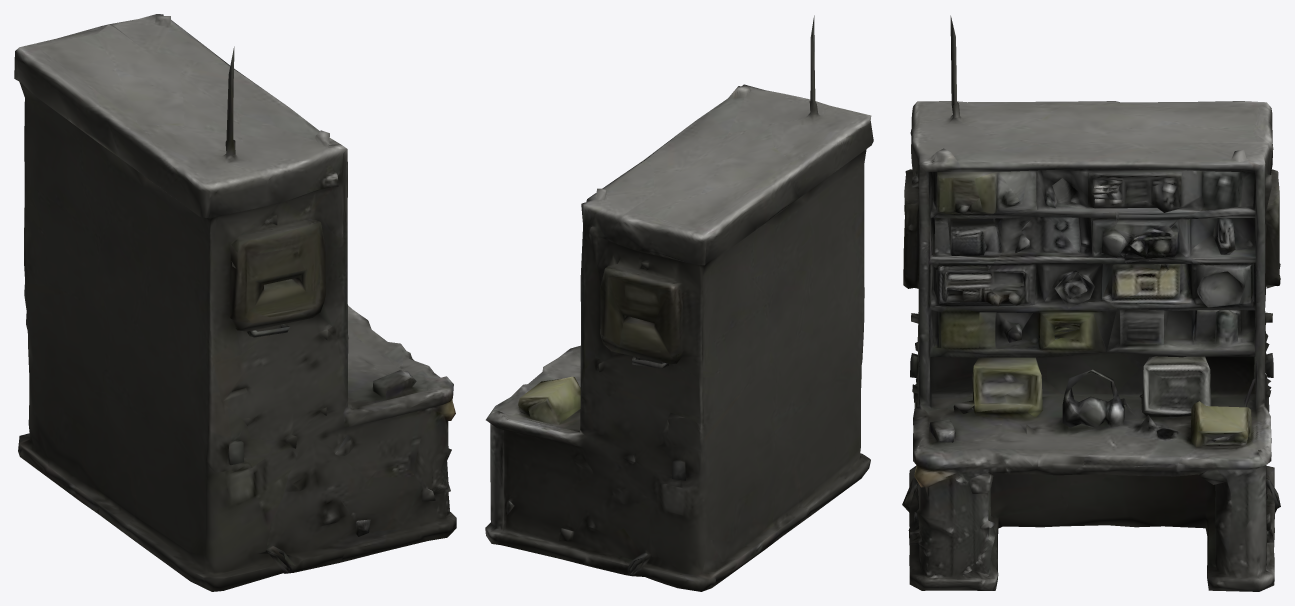
File: xd_radio.glb
3 renders of one model, left to right at view 1: azimuth 30°, elevation 25°; view 2: azimuth 150°, elevation 25°; view 3: azimuth 270°, elevation 25°, orthographic. The views are drawn at different scales.
Visible parts, largest first — view 1: tripo_node_1d00af76-71aa-4f02-891b-e4d7d4036e91; view 2: tripo_node_1d00af76-71aa-4f02-891b-e4d7d4036e91; view 3: tripo_node_1d00af76-71aa-4f02-891b-e4d7d4036e91.
Boxes of the visible parts, x1,y1,x2,y2 form: tripo_node_1d00af76-71aa-4f02-891b-e4d7d4036e91: [14, 14, 456, 591]; tripo_node_1d00af76-71aa-4f02-891b-e4d7d4036e91: [485, 15, 873, 591]; tripo_node_1d00af76-71aa-4f02-891b-e4d7d4036e91: [902, 15, 1280, 591].
Size of the model in its own units: 0.5286 by 1 by 0.7078.
Materials: 1 (1 with a texture image).
